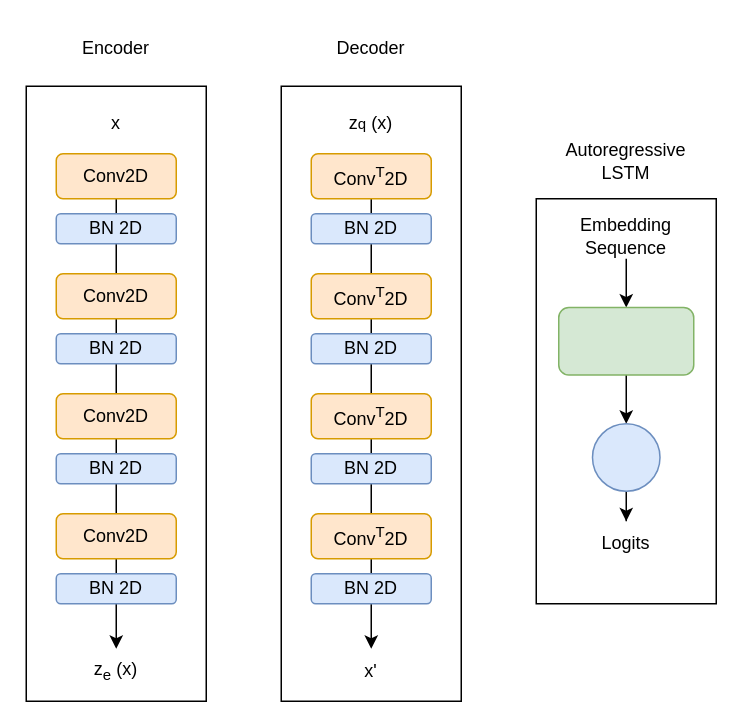
This 743x728 diagram has some shape labels left out. Here are the shapes that lost their labels. From the top down, the centre of each, then its label:
At (x=625, y=340): "1 Layer LSTM".
At (x=625, y=456): "FC".
